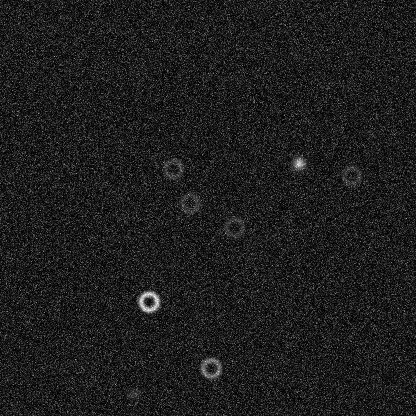Ring: (136, 289, 160, 313), (222, 214, 246, 238), (339, 163, 363, 187), (161, 156, 185, 180), (198, 355, 222, 379), (177, 191, 201, 215)
Spot: (290, 155, 306, 171), (125, 385, 141, 401)
